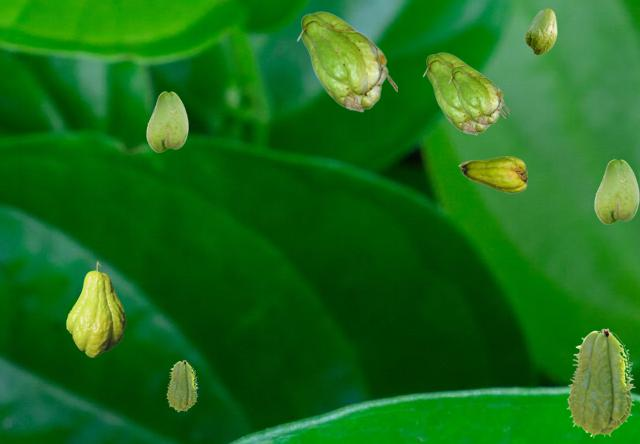sayote: (296, 11, 396, 111), (566, 328, 634, 437), (422, 52, 504, 134), (66, 261, 125, 356), (448, 65, 508, 125), (594, 159, 638, 223), (146, 91, 187, 151), (458, 156, 526, 192), (166, 360, 197, 411), (524, 8, 556, 54)
